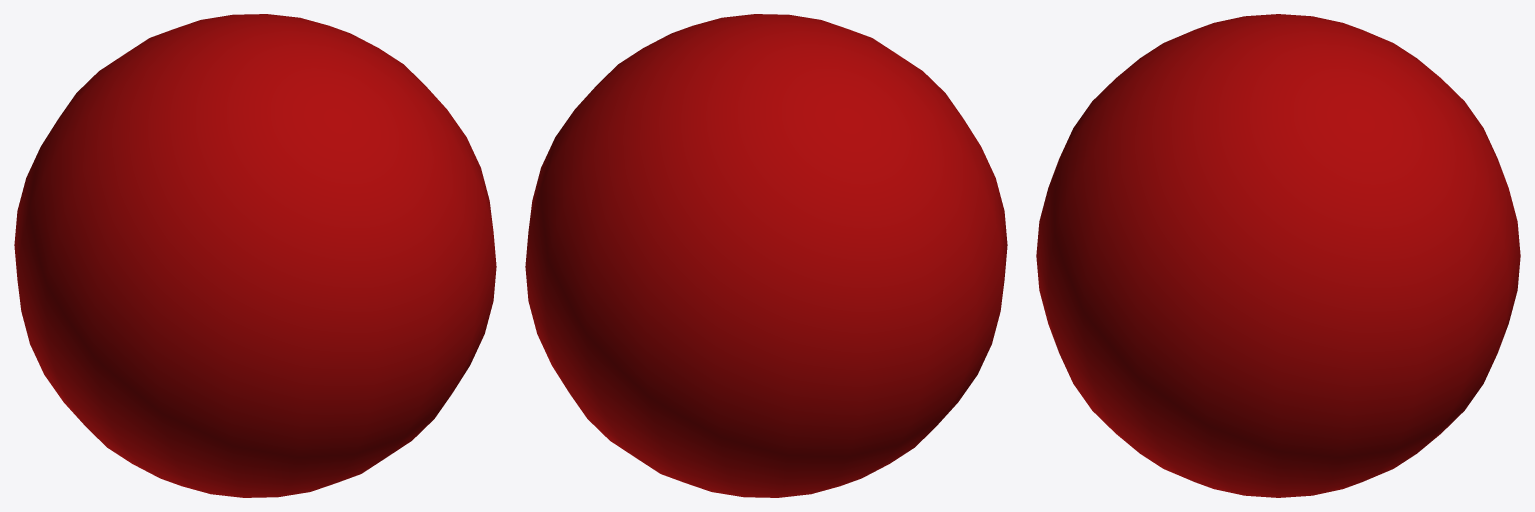
Rendered from staff_demon_heart_effect.fbx.
The picture shows the model from 3 angles, left to right: view 1: azimuth 30°, elevation 25°; view 2: azimuth 150°, elevation 25°; view 3: azimuth 270°, elevation 25°; orthographic projection.
Parts seen in each view (by area): view 1: staff_demon_heart_effect_outer; view 2: staff_demon_heart_effect_outer; view 3: staff_demon_heart_effect_outer.
Boxes of the visible parts, bbox=[...] form: staff_demon_heart_effect_outer: bbox=[14, 14, 496, 497]; staff_demon_heart_effect_outer: bbox=[525, 14, 1007, 497]; staff_demon_heart_effect_outer: bbox=[1036, 14, 1520, 497].
Bounding box in the file's own units: 158 × 158 × 158.
